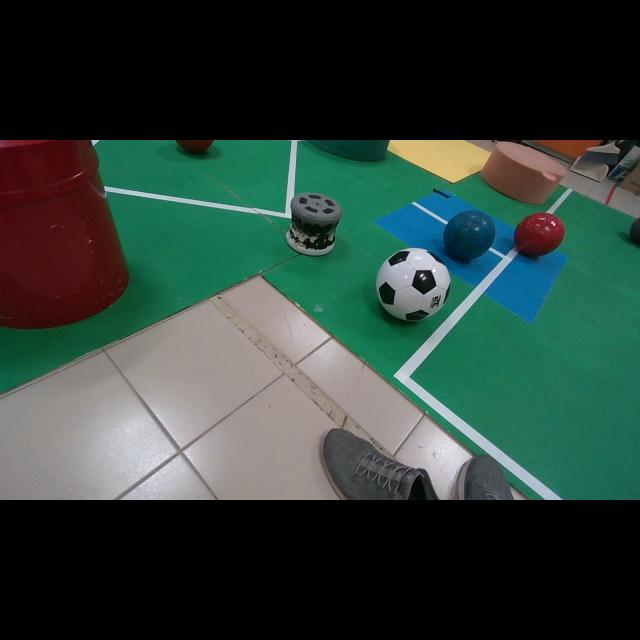B: (444, 210, 495, 261)
R: (514, 212, 565, 256)
